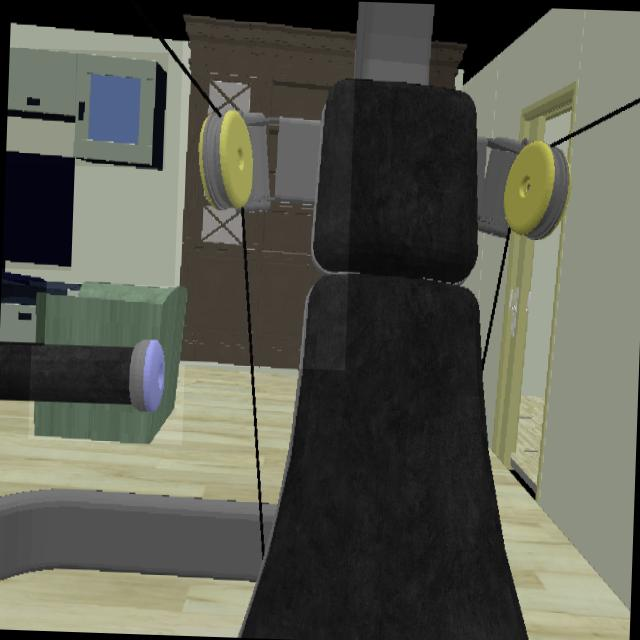bookshelf: (180, 15, 356, 368)
cabinet: (9, 48, 167, 168), (0, 280, 44, 344)
monitor: (2, 152, 74, 269)
sofa: (31, 283, 187, 443)
